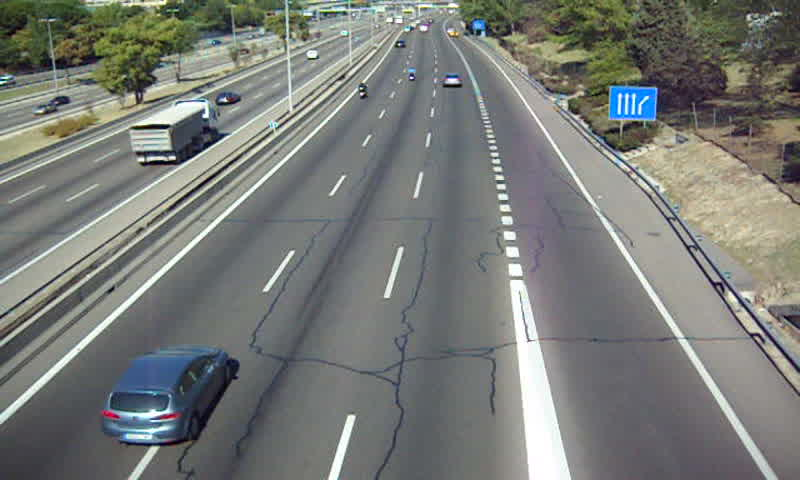car: (101, 345, 226, 444), (441, 73, 463, 87), (394, 41, 406, 50)
motorcycle: (356, 84, 369, 102), (405, 69, 416, 84)
